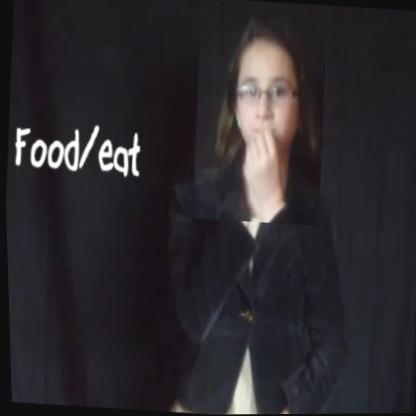Food: (186, 0, 332, 227)
